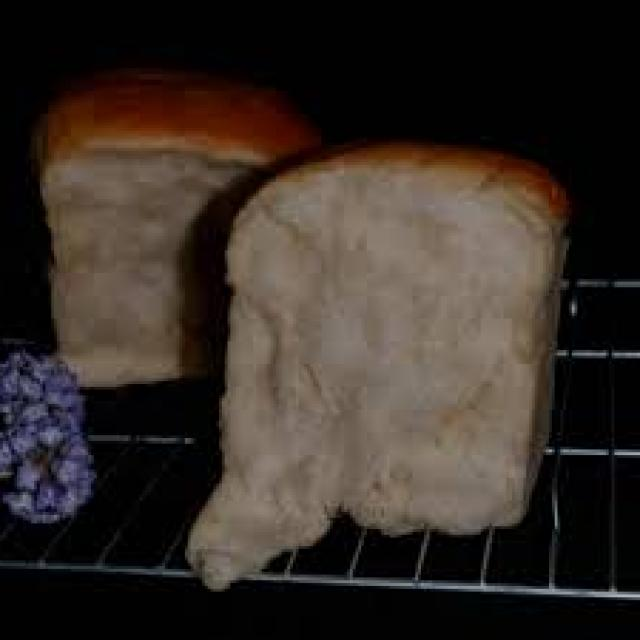roti tawar: (182, 139, 575, 592)
